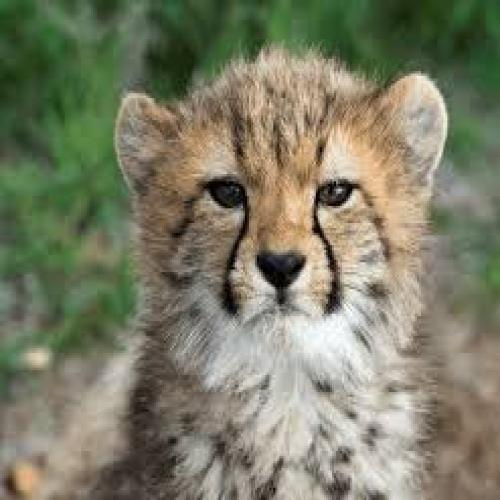cheetah-endangered: (70, 70, 452, 500)
